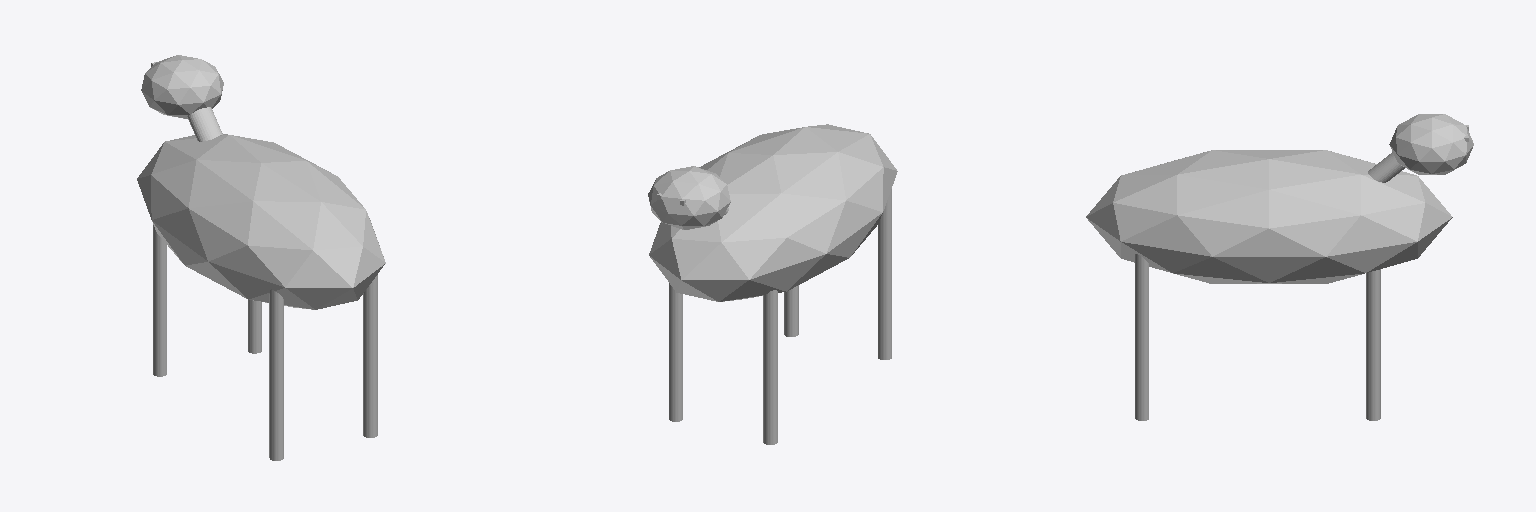
The model's file is goodsheep.obj.
3 renders of one model, left to right at view 1: azimuth 30°, elevation 25°; view 2: azimuth 150°, elevation 25°; view 3: azimuth 270°, elevation 25°, orthographic.
Size of the model in its own units: 1.29 by 2.11 by 2.66.